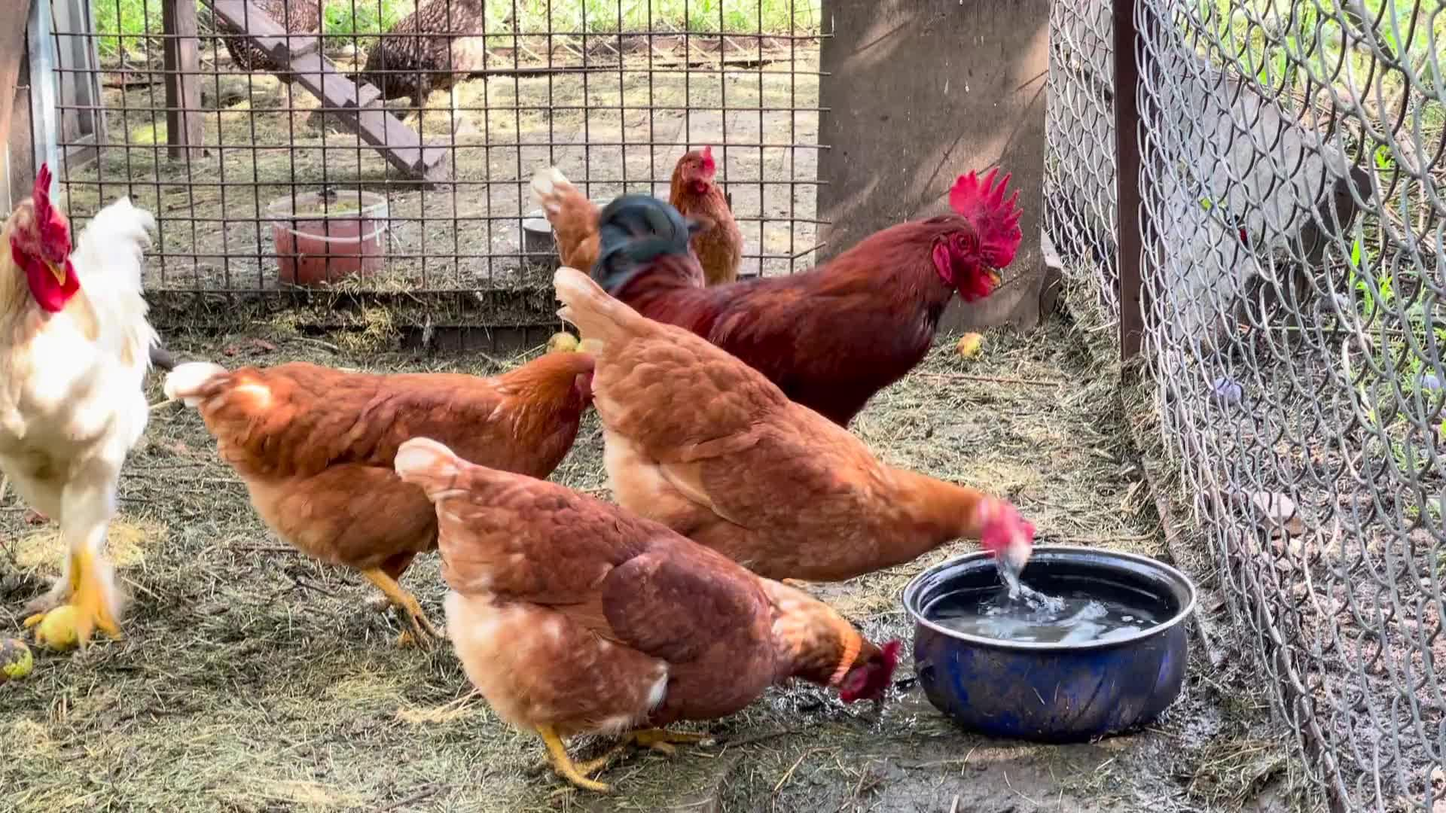Normal: (375, 420, 936, 800), (541, 247, 1052, 624), (192, 243, 603, 648), (590, 175, 1045, 473), (8, 149, 168, 685), (545, 145, 760, 303)
